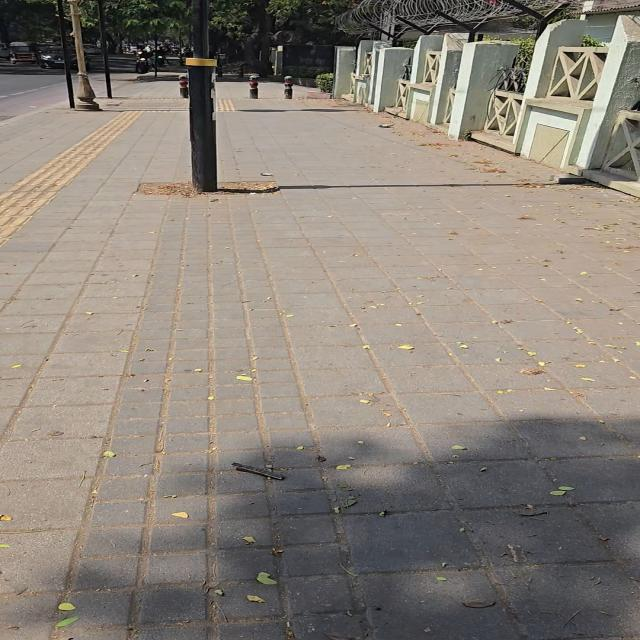bench: (179, 75, 189, 98), (284, 76, 293, 99), (249, 75, 258, 98), (238, 64, 244, 77)
bike: (187, 0, 217, 191), (69, 0, 100, 110), (57, 0, 74, 108), (98, 0, 112, 98), (155, 33, 158, 77)
